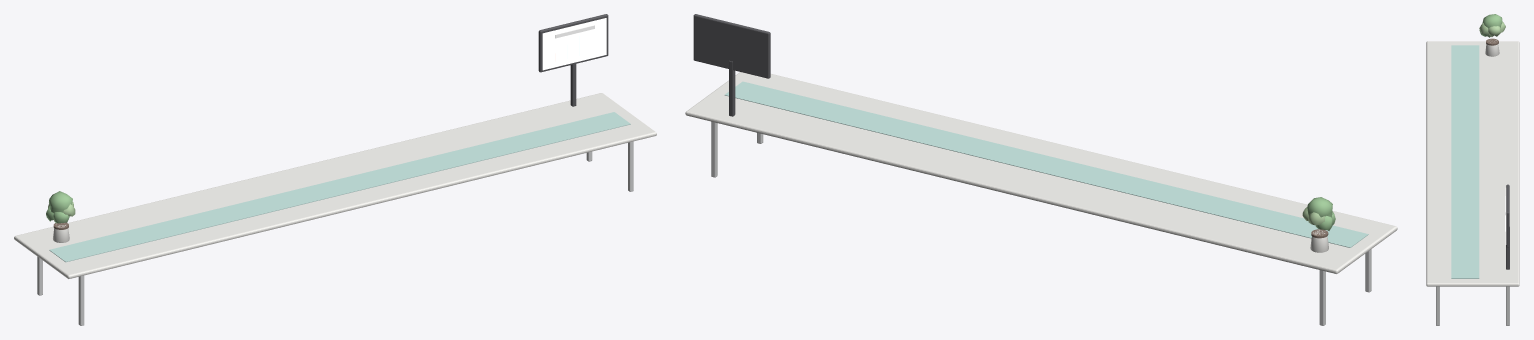
Rendered from serving.glb.
3 views of the same model, side by side, from view 1: azimuth 30°, elevation 25°; view 2: azimuth 150°, elevation 25°; view 3: azimuth 270°, elevation 25° (orthographic). The views are drawn at different scales.
Visible parts, largest first — view 1: serving_white, serving_mint, serving_slide, serving_black, serving_aluminium, serving_leaf; view 2: serving_white, serving_mint, serving_black, serving_aluminium, serving_leaf; view 3: serving_white, serving_mint, serving_black, serving_aluminium, serving_leaf, serving_leaf_light, serving_slide, serving_soil.
Boxes of the visible parts, bbox=[...] form: serving_white: bbox=[14, 93, 656, 278]; serving_mint: bbox=[49, 112, 630, 262]; serving_slide: bbox=[542, 18, 606, 70]; serving_black: bbox=[538, 14, 608, 106]; serving_aluminium: bbox=[37, 141, 633, 325]; serving_leaf: bbox=[46, 191, 72, 223]; serving_white: bbox=[685, 72, 1397, 273]; serving_mint: bbox=[724, 81, 1368, 247]; serving_black: bbox=[693, 14, 770, 116]; serving_aluminium: bbox=[711, 121, 1371, 325]; serving_leaf: bbox=[1307, 197, 1335, 230]; serving_white: bbox=[1426, 40, 1519, 286]; serving_mint: bbox=[1451, 45, 1479, 278]; serving_black: bbox=[1506, 184, 1509, 269]; serving_aluminium: bbox=[1436, 286, 1509, 325]; serving_leaf: bbox=[1479, 14, 1502, 37]; serving_leaf_light: bbox=[1479, 21, 1505, 36]; serving_slide: bbox=[1505, 188, 1506, 244]; serving_soil: bbox=[1486, 38, 1498, 45].
Bounding box in the file's own units: 7.4 × 1.7 × 1.2.
